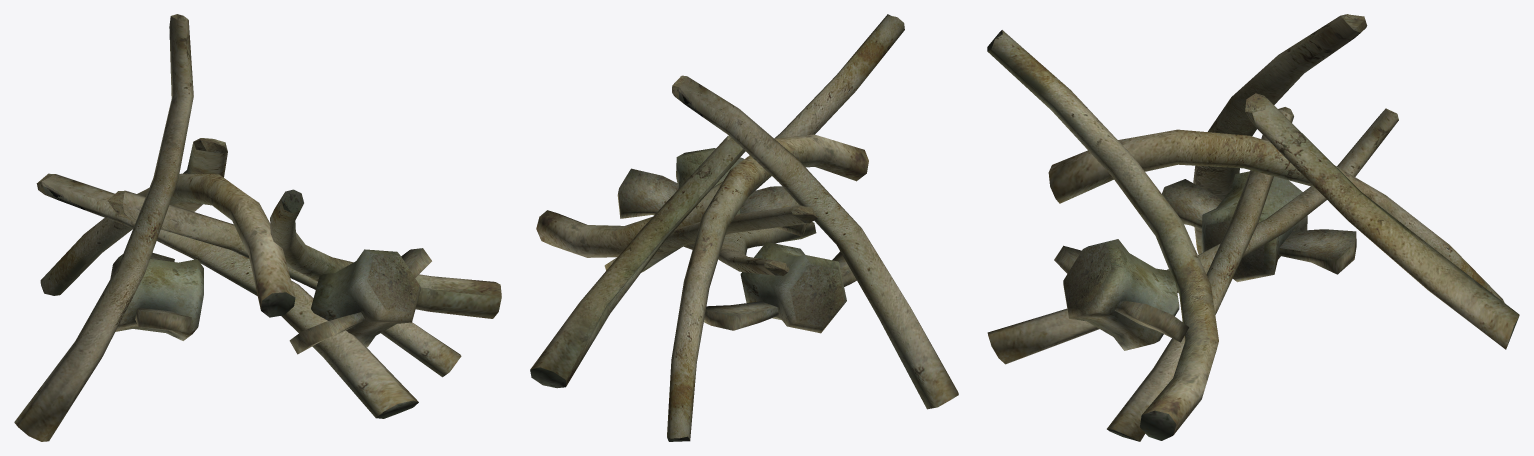
File: bone_whale_lump01.fbx
3 views of the same model, side by side, from view 1: azimuth 30°, elevation 25°; view 2: azimuth 150°, elevation 25°; view 3: azimuth 270°, elevation 25° (orthographic). The views are drawn at different scales.
Parts seen in each view (by area): view 1: bone_whale_lump01; view 2: bone_whale_lump01; view 3: bone_whale_lump01.
Boxes of the visible parts, bbox=[...] form: bone_whale_lump01: bbox=[14, 14, 501, 441]; bone_whale_lump01: bbox=[530, 14, 958, 441]; bone_whale_lump01: bbox=[987, 14, 1519, 441].
Bounding box in the file's own units: 13.41 × 9.3 × 12.85.
